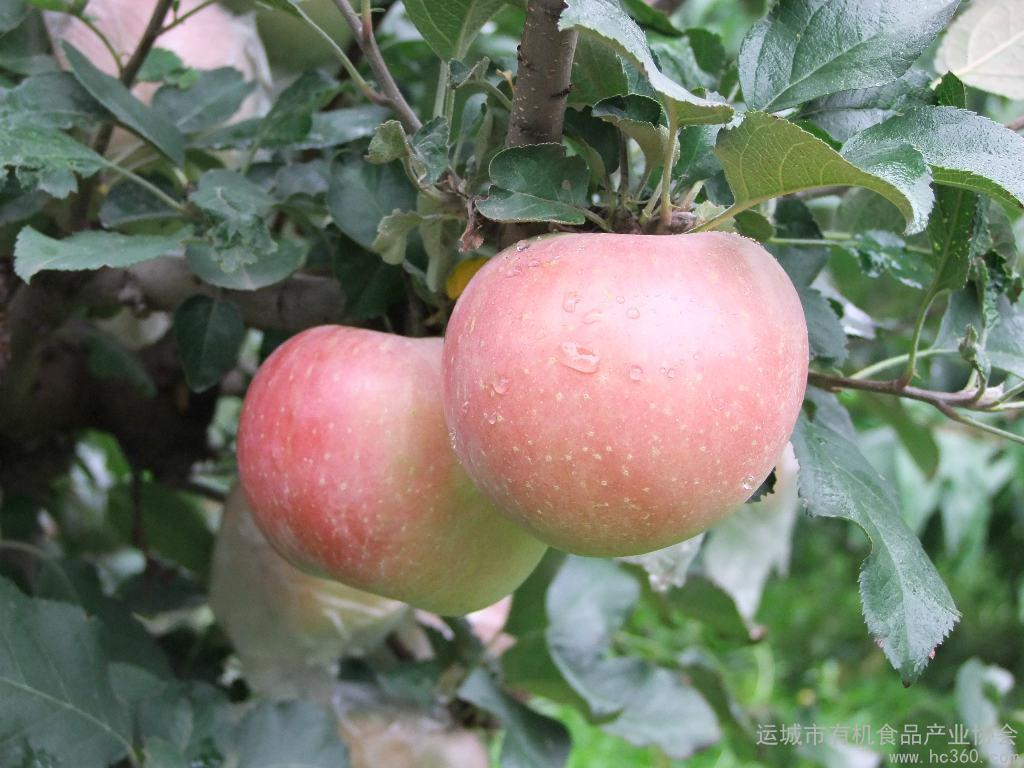apple: (447, 226, 808, 567), (233, 326, 527, 622)
